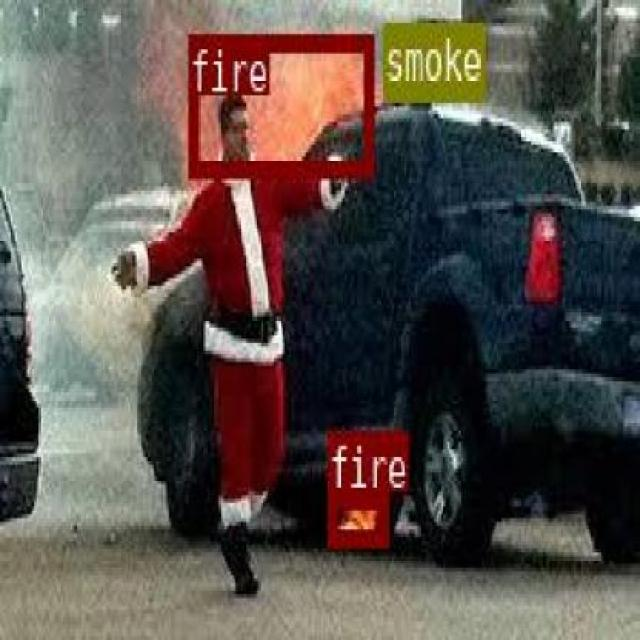Fire: (186, 33, 372, 173), (327, 489, 387, 542)
